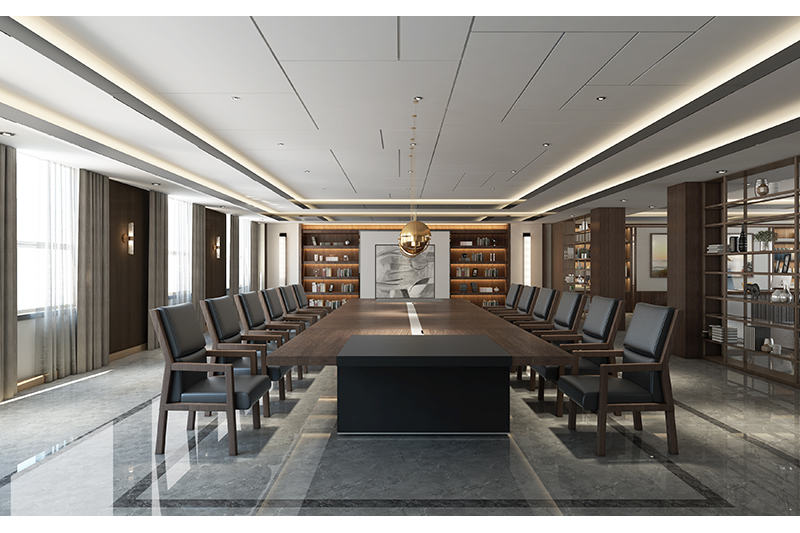conference_table: (266, 298, 573, 434)
